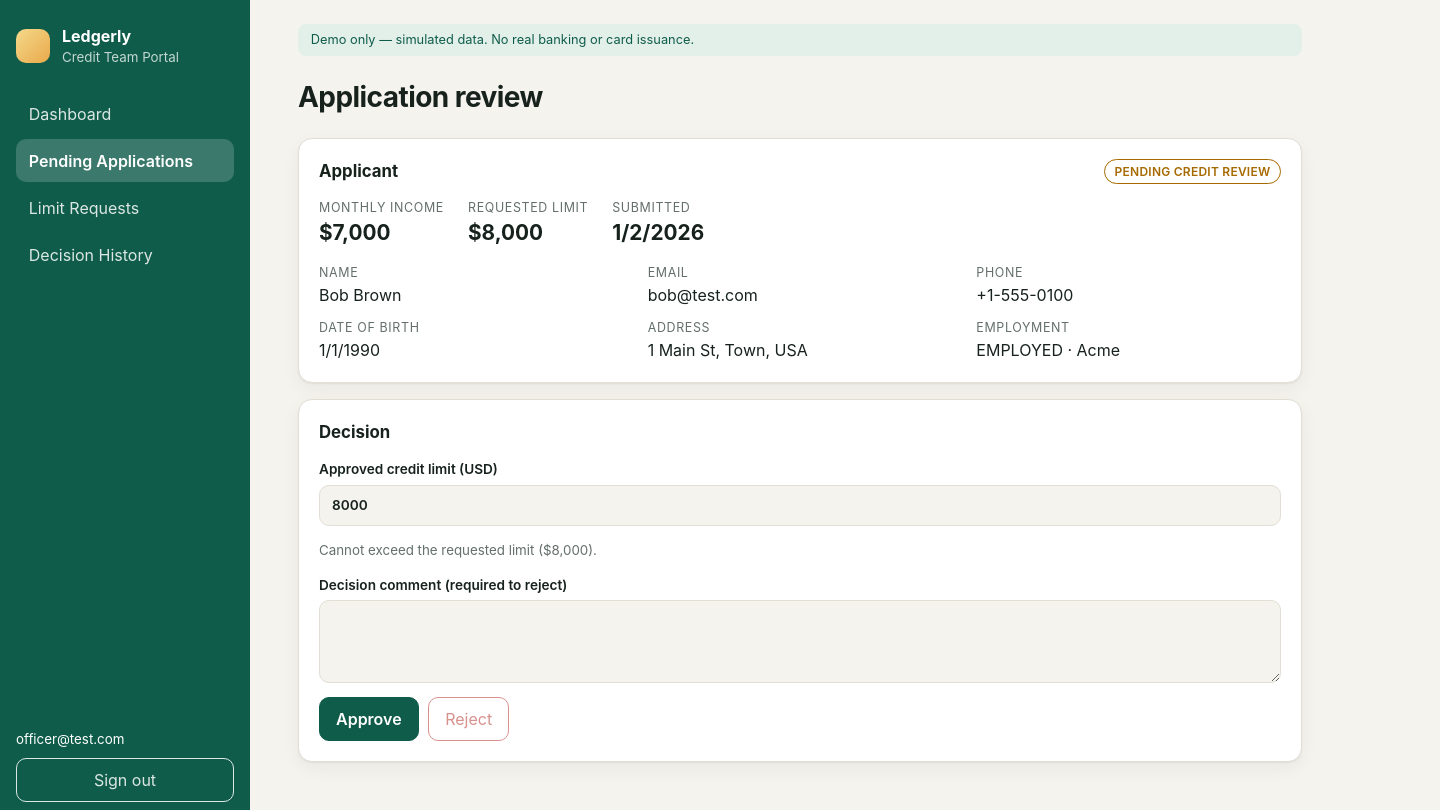
Test case: Credit Officer portal › approves an application with the chosen limit and comment
This screenshot has width=1440, height=810.
Replace the text in the number field labelled "Approved credit limit (USD)" with "6500" at (800, 506), box [319,485,1281,526]
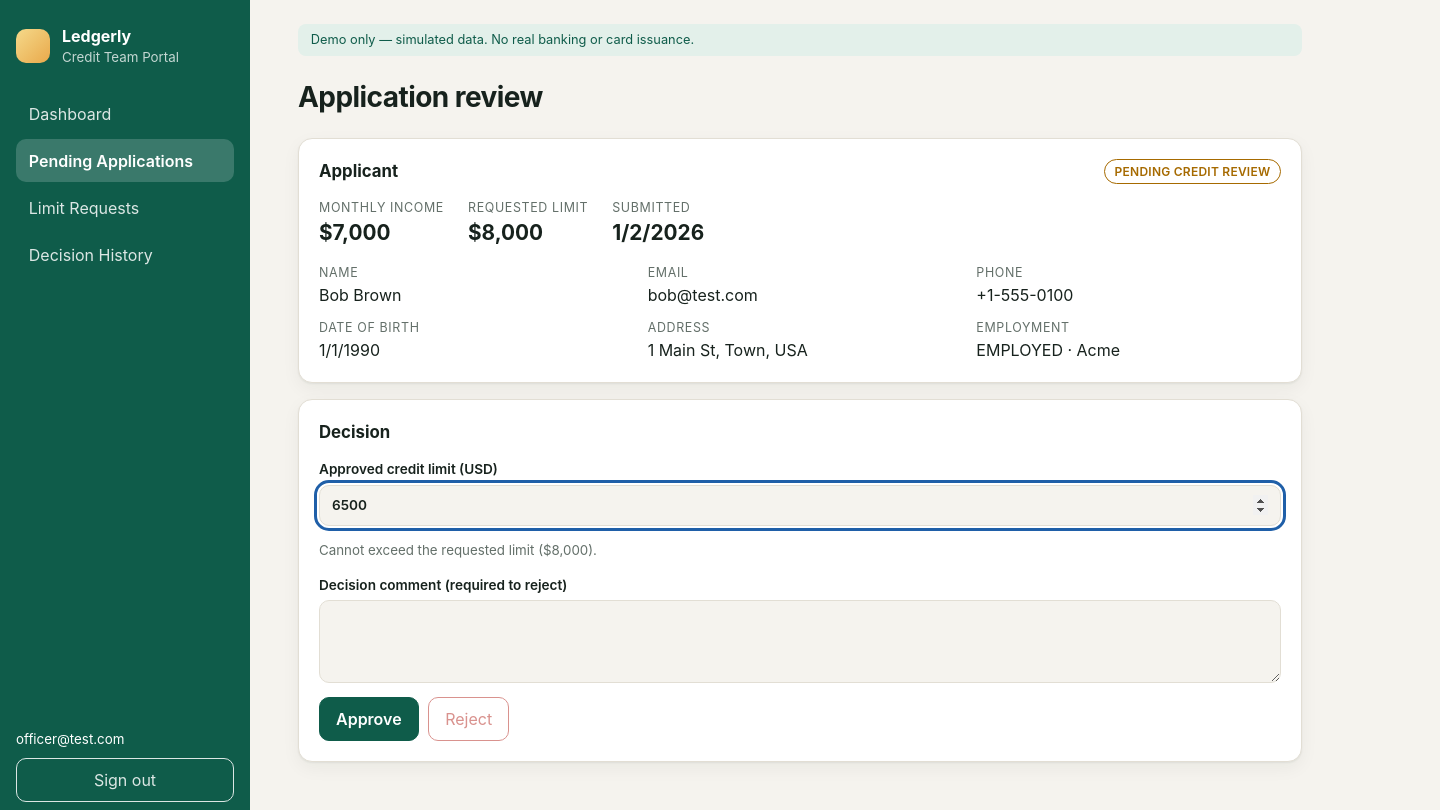
Type "Good history" into the text box labelled "Decision comment (required to reject)" at (800, 641), box [319,600,1281,683]
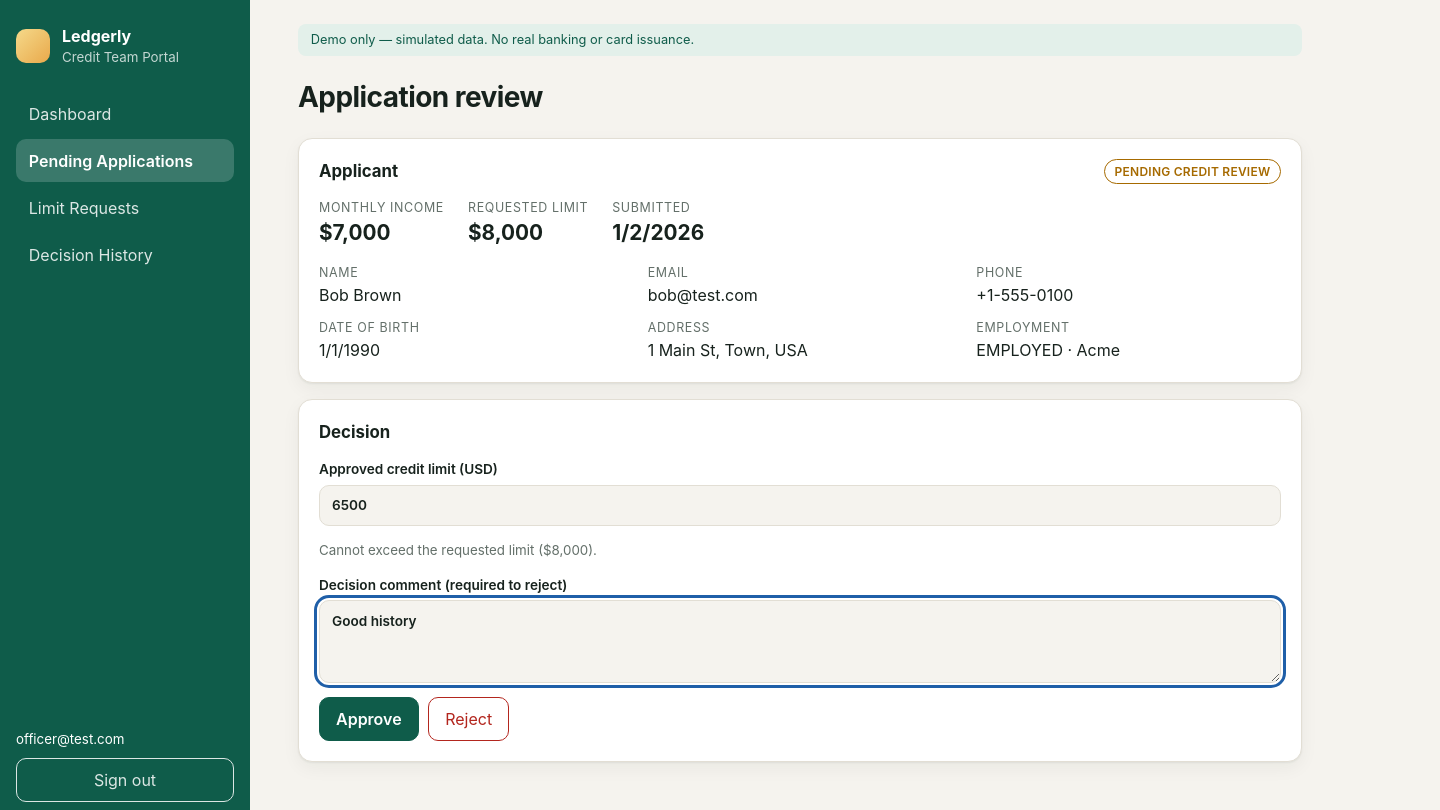
Click the button "Approve" at (369, 719), box [319,697,419,740]
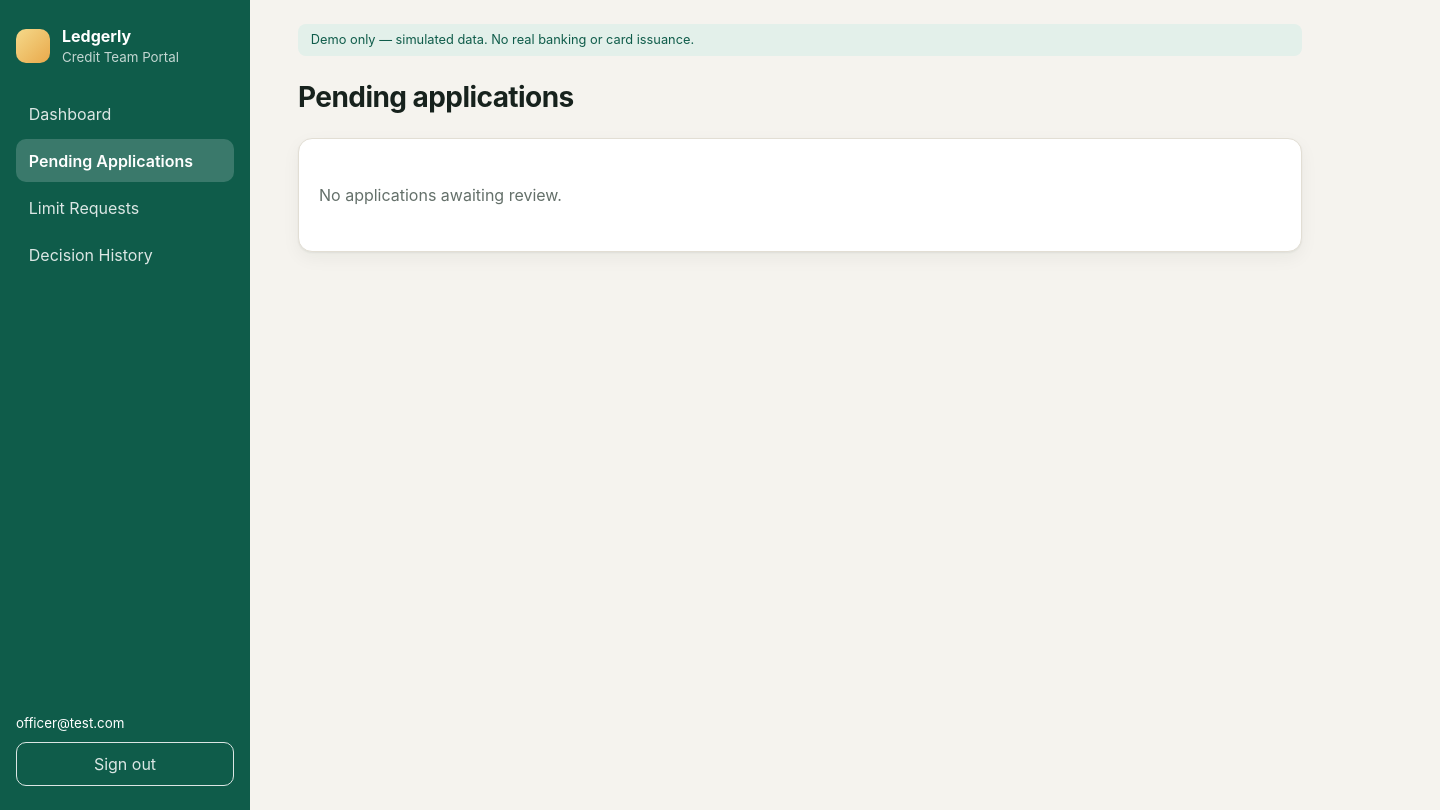
Expected: the heading "Pending applications" is shown, [298,80,574,114]
